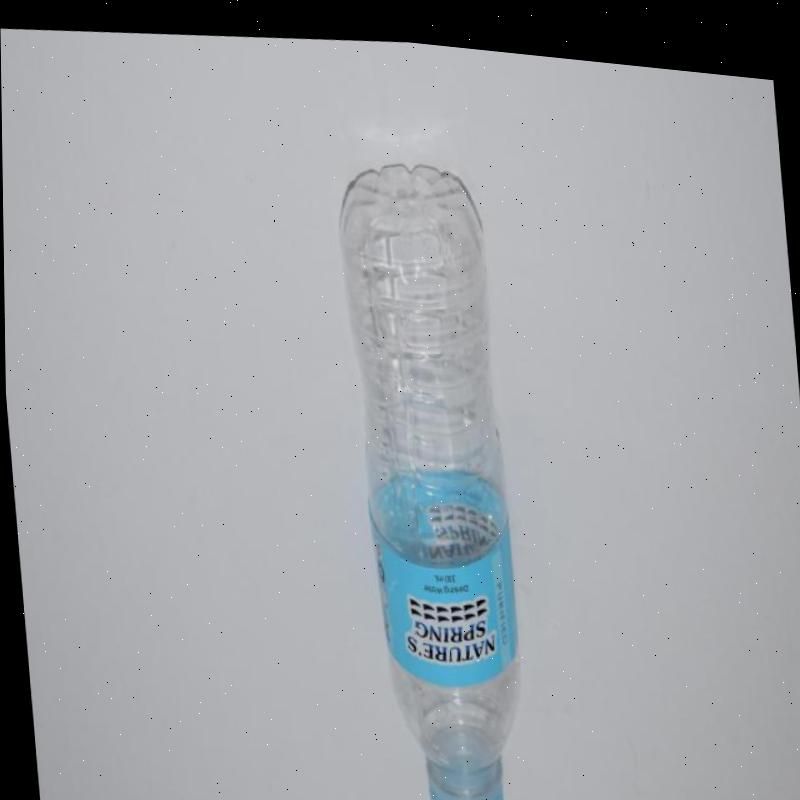botella: (323, 142, 534, 800)
